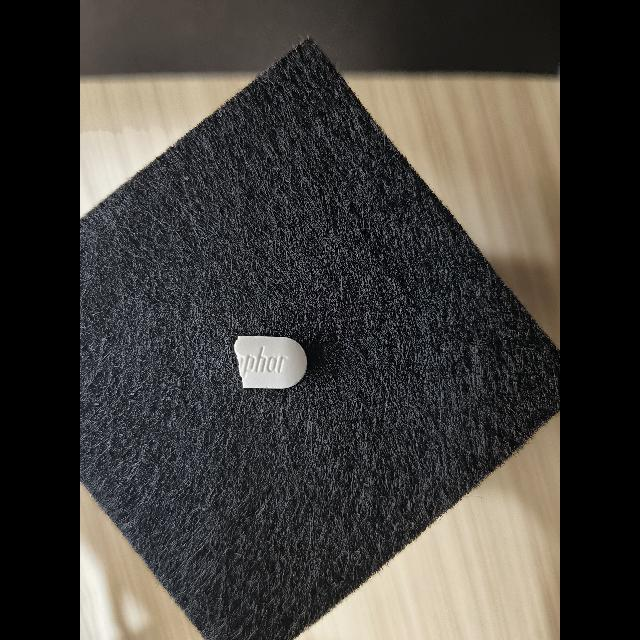Chipped Pill: (234, 336, 307, 389)
